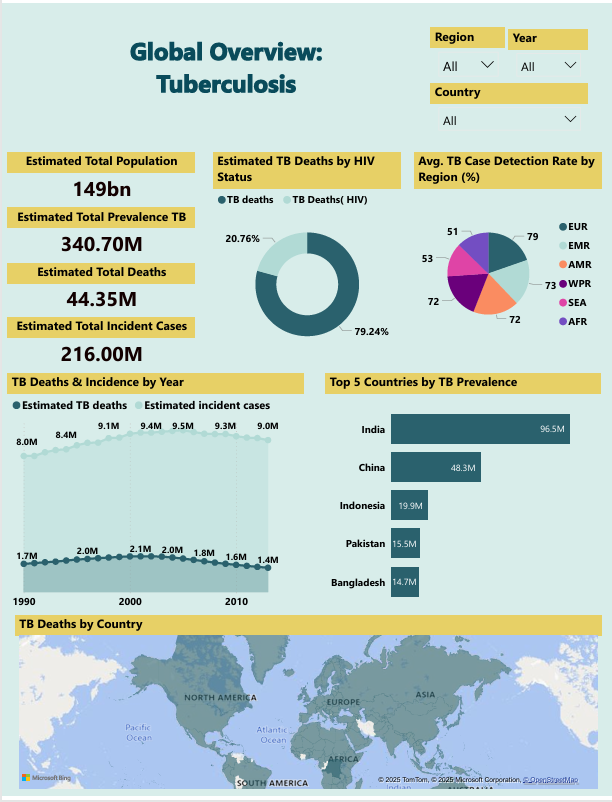

What the dashboard file says about the page in this screenshot:
{"tool":"powerbi","page":{"name":"TB Global Overview","canvas":[816,1056],"ordinal":0},"visuals":[{"type":"card","title":"Estimated Total Population","fields":{"Values":["Sum(TB_Burden_Country.Estimated total population number)"]},"box":[8,198,250,74],"z":0},{"type":"filledMap","title":"TB Deaths by Country","fields":{"Category":["TB_Burden_Country.Country or territory name"]},"box":[18,815,782,236],"z":1000},{"type":"card","title":"Estimated Total Prevalence TB","fields":{"Values":["Sum(TB_Burden_Country.Estimated prevalence of TB (all forms))"]},"box":[8,272,250,74],"z":2000},{"type":"card","title":"Estimated Total Deaths","fields":{"Values":["Sum(TB_Burden_Country.Estimated number of deaths from TB)"]},"box":[8,346,250,72],"z":3000},{"type":"card","title":"Estimated Total Incident Cases","fields":{"Values":["Sum(TB_Burden_Country.Estimated number of incident cases (all forms))"]},"box":[8,418,250,74],"z":4000},{"type":"slicer","title":"Region","fields":{"Values":["TB_Burden_Country.Region"]},"box":[572,32,100,72],"z":5000},{"type":"slicer","title":"Year","fields":{"Values":["TB_Burden_Country.Year"]},"box":[676,34,106,72],"z":6000},{"type":"slicer","title":"Country","fields":{"Values":["TB_Burden_Country.Country or territory name"]},"box":[572,106,210,72],"z":7000},{"type":"clusteredBarChart","title":"Top 5 Countries by TB Prevalence","fields":{"Category":["TB_Burden_Country.Country or territory name"],"Y":["Sum(TB_Burden_Country.Estimated prevalence of TB (all forms))"]},"box":[432,492,368,324],"z":8000},{"type":"areaChart","title":"TB Deaths & Incidence by Year","fields":{"Category":["TB_Burden_Country.Year"],"Y":["Sum(TB_Burden_Country.Estimated number of deaths from TB)","Sum(TB_Burden_Country.Estimated number of incident cases (all forms))"]},"box":[8,492,396,324],"z":9000},{"type":"donutChart","title":"Estimated TB Deaths by HIV Status","fields":{"Y":["Sum(TB_Burden_Country.Estimated number of deaths from TB (all forms, excluding HIV))","Sum(TB_Burden_Country.Estimated number of deaths from TB in people who are HIV-positive)"]},"box":[282,198,250,280],"z":10000},{"type":"pieChart","title":"Avg. TB Case Detection Rate by Region (%)","fields":{"Y":["Avg(TB_Burden_Country.Case detection rate (all forms), percent)"],"Category":["TB_Burden_Country.Region"]},"box":[550,198,250,280],"z":11000},{"type":"textbox","box":[86,18,426,146],"z":12000}]}

Visuals, with their boxes in screenshot pixels (x1, y1, x2, y2), scaled from the page's 816x1056 canvas onto the 612x802 screenshot:
"Estimated Total Population" card: left=6, top=150, right=194, bottom=207
"TB Deaths by Country" filledMap: left=14, top=619, right=600, bottom=798
"Estimated Total Prevalence TB" card: left=6, top=207, right=194, bottom=263
"Estimated Total Deaths" card: left=6, top=263, right=194, bottom=317
"Estimated Total Incident Cases" card: left=6, top=317, right=194, bottom=374
"Region" slicer: left=429, top=24, right=504, bottom=79
"Year" slicer: left=507, top=26, right=586, bottom=81
"Country" slicer: left=429, top=81, right=586, bottom=135
"Top 5 Countries by TB Prevalence" clusteredBarChart: left=324, top=374, right=600, bottom=620
"TB Deaths & Incidence by Year" areaChart: left=6, top=374, right=303, bottom=620
"Estimated TB Deaths by HIV Status" donutChart: left=212, top=150, right=399, bottom=363
"Avg. TB Case Detection Rate by Region (%)" pieChart: left=412, top=150, right=600, bottom=363
textbox: left=64, top=14, right=384, bottom=125
